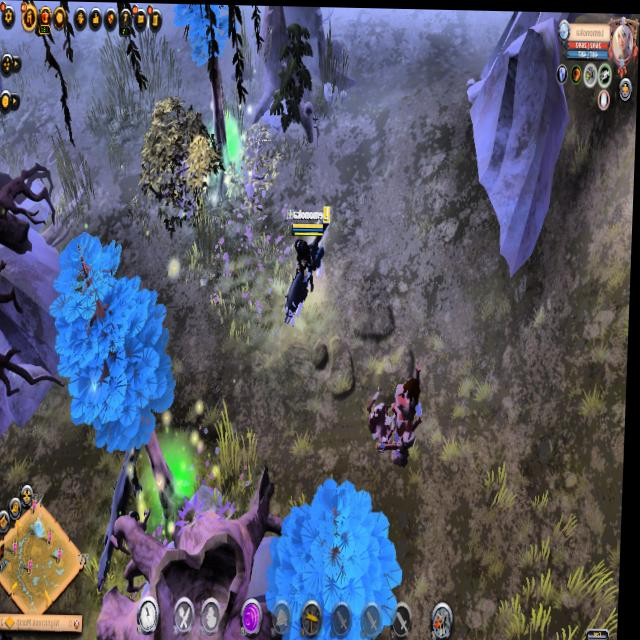wood tier 4: (45, 227, 183, 460)
